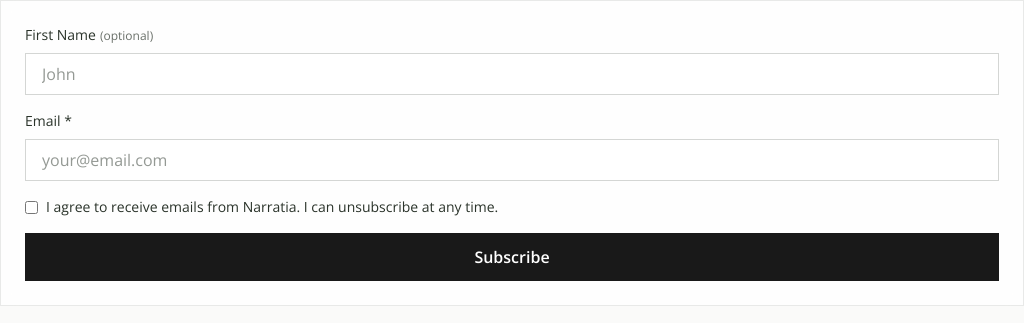
Test: EmailSignupForm › Form Submission › should disable submit button while loading
The width and height of the screenshot is (1024, 323).
Type "test@example.com" into the field labelled "Email *" at (512, 160), box [25,139,999,181]
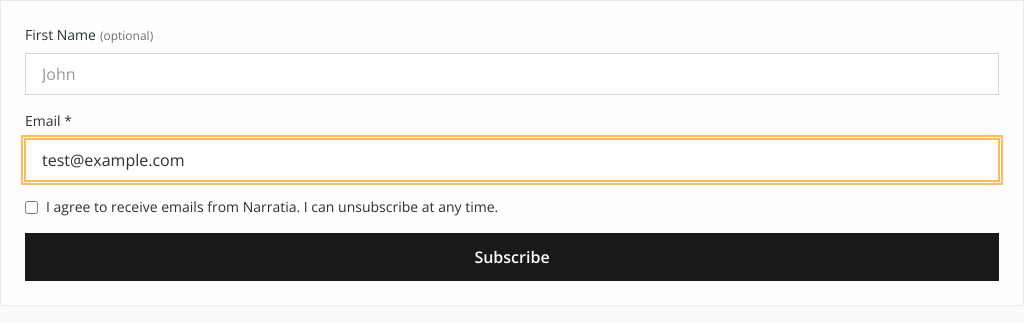
Click the checkbox at (32, 208), box [25,201,38,214]
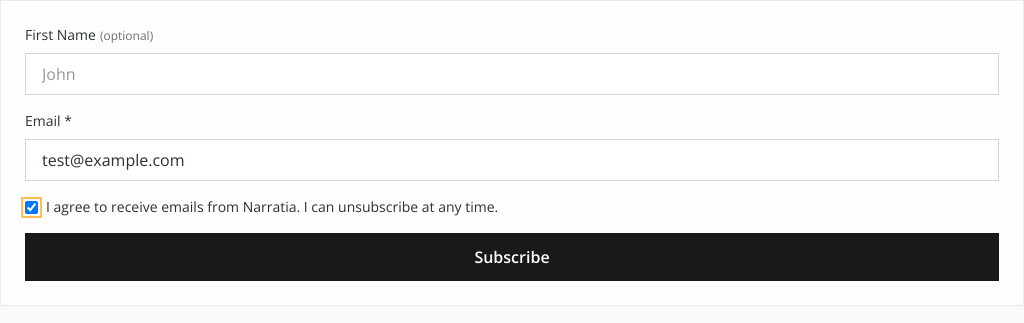
Click the button "Subscribe" at (512, 257), box [25,233,999,281]
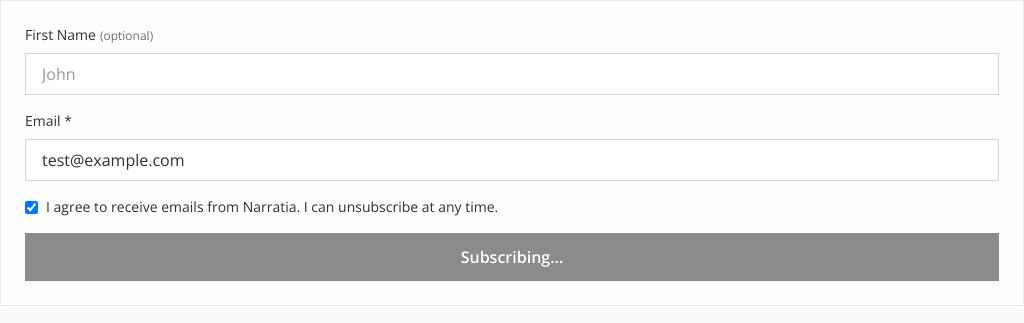
expect the button named "subscribe" is disabled: met, box [25,233,999,281]
